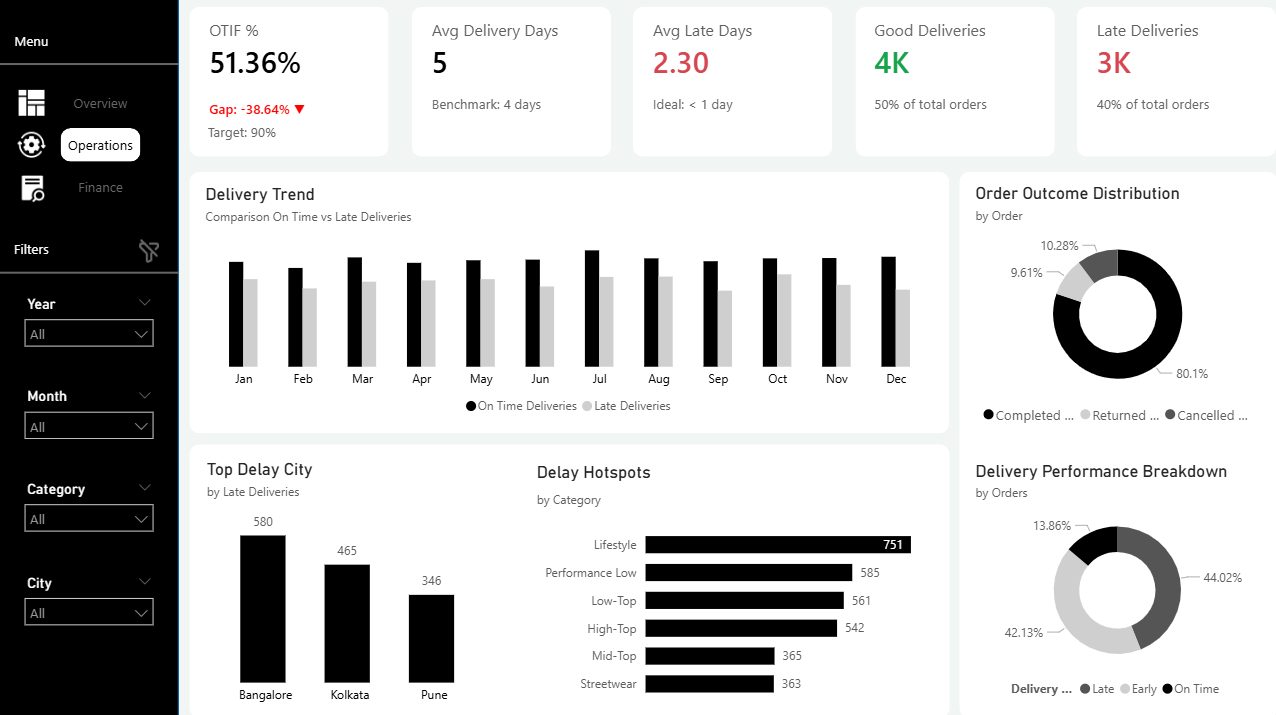

The page's visual inventory and layout, read from the dashboard file:
{"tool":"powerbi","page":{"name":"Operations","canvas":[1280,720],"ordinal":1},"visuals":[{"type":"shape","box":[0,0,180.8,720],"z":0},{"type":"shape","box":[191.2,8.2,199.5,150],"z":1000,"group":"g1"},{"type":"shape","box":[7.2,236.5,51.9,29],"z":1000},{"type":"shape","box":[413.3,8.2,199.5,150],"z":2000,"group":"g5"},{"type":"shape","box":[7.2,27.7,51.9,29],"z":2000},{"type":"shape","box":[190.8,446.6,760.5,273.4],"z":2000,"group":"g4"},{"type":"shape","box":[635.4,8.2,199.5,150],"z":3000,"group":"g6"},{"type":"shape","box":[0,266.6,181,16.9],"z":3000},{"type":"shape","box":[857.5,8.2,199.5,150],"z":4000,"group":"g7"},{"type":"shape","box":[0,57,180.9,17.1],"z":4000},{"type":"shape","box":[1078.8,8.2,199.5,150],"z":5000,"group":"g8"},{"type":"slicer","fields":{"Values":["Calendar.Year"]},"box":[15.7,292,149.6,67.6],"z":5000},{"type":"cardVisual","fields":{"Data":["Measures Table.OTIF %"]},"box":[191.4,8.7,200,85],"z":6000,"group":"g1"},{"type":"image","box":[18.5,89.7,29.9,29.9],"z":6000},{"type":"shape","box":[961.5,173.5,318.5,546.5],"z":6000,"group":"g3"},{"type":"cardVisual","fields":{"Data":["Measures Table.OTIF Gap Text"]},"box":[191.4,93.7,199,31.2],"z":7000,"group":"g1"},{"type":"slicer","fields":{"Values":["Calendar.Month"]},"box":[15.7,384.9,149.6,67.6],"z":7000},{"type":"shape","box":[210.2,124.9,160,23.8],"z":8000,"group":"g1"},{"type":"image","box":[18.5,133.9,29.9,28.5],"z":8000},{"type":"cardVisual","fields":{"Data":["Measures Table.Avg Delivery Days"]},"box":[413.2,8.7,200,85],"z":9000,"group":"g5"},{"type":"slicer","fields":{"Values":["Products.Category"]},"box":[15.7,477.8,149.6,67.6],"z":9000},{"type":"image","box":[19.9,176.6,28.5,28.5],"z":10000},{"type":"slicer","fields":{"Values":["Customers.City"]},"box":[15.7,570.6,149.6,67.6],"z":11000},{"type":"cardVisual","fields":{"Data":["Measures Table.Avg Late Days"]},"box":[635,8.7,200,85],"z":12000,"group":"g6"},{"type":"actionButton","box":[62.7,88.1,80,33.8],"z":12000},{"type":"cardVisual","fields":{"Data":["Measures Table.On Time Deliveries"]},"box":[856.8,8.7,200,85],"z":13000,"group":"g7"},{"type":"donutChart","title":"Order Outcome Distribution","fields":{"Y":["Measures Table.Completed Orders","Measures Table.Returned Orders","Measures Table.Cancelled Orders"]},"box":[972.6,184.9,294.8,250.6],"z":13000,"group":"g3"},{"type":"image","box":[136.3,241.3,29,26.5],"z":13000},{"type":"cardVisual","fields":{"Data":["Measures Table.Late Deliveries"]},"box":[1079,8.7,200,85],"z":14000,"group":"g8"},{"type":"actionButton","box":[62.7,130.3,80,33.8],"z":14000},{"type":"columnChart","title":"Top Delay City ","fields":{"Category":["Customers.City"],"Y":["Measures Table.Late Deliveries"]},"box":[203.9,461.3,296.6,253],"z":14000,"group":"g4"},{"type":"actionButton","box":[62.7,171.3,80,33.8],"z":15000},{"type":"barChart","title":"Delay Hotspots","fields":{"Category":["Products.Category"],"Y":["Measures Table.Late Deliveries"]},"box":[533.7,464.6,410.9,247.8],"z":15000,"group":"g4"},{"type":"group","id":"g1","title":"Group 1","box":[191.2,8.2,200.2,150],"z":16000},{"type":"donutChart","title":"Delivery Performance Breakdown","fields":{"Category":["Orders.Delivery_Status"],"Y":["Measures Table.Total Orders"]},"box":[972.4,461.8,294.1,246.5],"z":16000,"group":"g3"},{"type":"group","id":"g2","title":"Group 6","box":[191.8,173.5,760.1,261.8],"z":17000},{"type":"group","id":"g3","title":"Group 9","box":[961.5,173.5,318.5,546.5],"z":18000},{"type":"shape","box":[191.8,173.5,760.1,261.8],"z":19000,"group":"g2"},{"type":"group","id":"g4","title":"Group 8","box":[190.8,446.6,760.5,273.4],"z":19000},{"type":"group","id":"g5","title":"Group 2","box":[413.2,8.2,200,150],"z":20000},{"type":"clusteredColumnChart","title":"Delivery Trend","fields":{"Category":["Calendar.Month"],"Y":["Measures Table.On Time Deliveries","Measures Table.Late Deliveries"]},"box":[202.7,185.6,739.5,240.1],"z":20000,"group":"g2"},{"type":"group","id":"g6","title":"Group 3","box":[635,8.2,200,150],"z":21000},{"type":"shape","box":[432.7,93.7,159.2,23.1],"z":21000,"group":"g5"},{"type":"group","id":"g7","title":"Group 4","box":[856.8,8.2,200.2,150],"z":22000},{"type":"shape","box":[654.9,93.7,159.2,23.1],"z":22000,"group":"g6"},{"type":"group","id":"g8","title":"Group 5","box":[1078.8,8.2,200.2,150],"z":23000},{"type":"shape","box":[877.1,93.7,159.2,23.1],"z":23000,"group":"g7"},{"type":"shape","box":[1099.2,93.7,159.2,23.1],"z":24000,"group":"g8"}]}

Visuals, with their boxes on the page's 1280x720 design canvas (x1, y1, x2, y2). These are canvas units, not pixel positions in the 1276x715 screenshot, which may show the page scaled, cropped or inside an application window:
shape: {"x1": 0, "y1": 0, "x2": 181, "y2": 720}
shape: {"x1": 191, "y1": 8, "x2": 391, "y2": 158}
shape: {"x1": 7, "y1": 236, "x2": 59, "y2": 266}
shape: {"x1": 413, "y1": 8, "x2": 613, "y2": 158}
shape: {"x1": 7, "y1": 28, "x2": 59, "y2": 57}
shape: {"x1": 191, "y1": 447, "x2": 951, "y2": 720}
shape: {"x1": 635, "y1": 8, "x2": 835, "y2": 158}
shape: {"x1": 0, "y1": 267, "x2": 181, "y2": 284}
shape: {"x1": 858, "y1": 8, "x2": 1057, "y2": 158}
shape: {"x1": 0, "y1": 57, "x2": 181, "y2": 74}
shape: {"x1": 1079, "y1": 8, "x2": 1278, "y2": 158}
slicer - Calendar.Year: {"x1": 16, "y1": 292, "x2": 165, "y2": 360}
cardVisual - Measures Table.OTIF %: {"x1": 191, "y1": 9, "x2": 391, "y2": 94}
image: {"x1": 18, "y1": 90, "x2": 48, "y2": 120}
shape: {"x1": 962, "y1": 174, "x2": 1280, "y2": 720}
cardVisual - Measures Table.OTIF Gap Text: {"x1": 191, "y1": 94, "x2": 390, "y2": 125}
slicer - Calendar.Month: {"x1": 16, "y1": 385, "x2": 165, "y2": 452}
shape: {"x1": 210, "y1": 125, "x2": 370, "y2": 149}
image: {"x1": 18, "y1": 134, "x2": 48, "y2": 162}
cardVisual - Measures Table.Avg Delivery Days: {"x1": 413, "y1": 9, "x2": 613, "y2": 94}
slicer - Products.Category: {"x1": 16, "y1": 478, "x2": 165, "y2": 545}
image: {"x1": 20, "y1": 177, "x2": 48, "y2": 205}
slicer - Customers.City: {"x1": 16, "y1": 571, "x2": 165, "y2": 638}
cardVisual - Measures Table.Avg Late Days: {"x1": 635, "y1": 9, "x2": 835, "y2": 94}
actionButton: {"x1": 63, "y1": 88, "x2": 143, "y2": 122}
cardVisual - Measures Table.On Time Deliveries: {"x1": 857, "y1": 9, "x2": 1057, "y2": 94}
"Order Outcome Distribution" donutChart: {"x1": 973, "y1": 185, "x2": 1267, "y2": 436}
image: {"x1": 136, "y1": 241, "x2": 165, "y2": 268}
cardVisual - Measures Table.Late Deliveries: {"x1": 1079, "y1": 9, "x2": 1279, "y2": 94}
actionButton: {"x1": 63, "y1": 130, "x2": 143, "y2": 164}
"Top Delay City " columnChart: {"x1": 204, "y1": 461, "x2": 500, "y2": 714}
actionButton: {"x1": 63, "y1": 171, "x2": 143, "y2": 205}
"Delay Hotspots" barChart: {"x1": 534, "y1": 465, "x2": 945, "y2": 712}
"Group 1" group: {"x1": 191, "y1": 8, "x2": 391, "y2": 158}
"Delivery Performance Breakdown" donutChart: {"x1": 972, "y1": 462, "x2": 1266, "y2": 708}
"Group 6" group: {"x1": 192, "y1": 174, "x2": 952, "y2": 435}
"Group 9" group: {"x1": 962, "y1": 174, "x2": 1280, "y2": 720}
shape: {"x1": 192, "y1": 174, "x2": 952, "y2": 435}
"Group 8" group: {"x1": 191, "y1": 447, "x2": 951, "y2": 720}
"Group 2" group: {"x1": 413, "y1": 8, "x2": 613, "y2": 158}
"Delivery Trend" clusteredColumnChart: {"x1": 203, "y1": 186, "x2": 942, "y2": 426}
"Group 3" group: {"x1": 635, "y1": 8, "x2": 835, "y2": 158}
shape: {"x1": 433, "y1": 94, "x2": 592, "y2": 117}
"Group 4" group: {"x1": 857, "y1": 8, "x2": 1057, "y2": 158}
shape: {"x1": 655, "y1": 94, "x2": 814, "y2": 117}
"Group 5" group: {"x1": 1079, "y1": 8, "x2": 1279, "y2": 158}
shape: {"x1": 877, "y1": 94, "x2": 1036, "y2": 117}
shape: {"x1": 1099, "y1": 94, "x2": 1258, "y2": 117}
